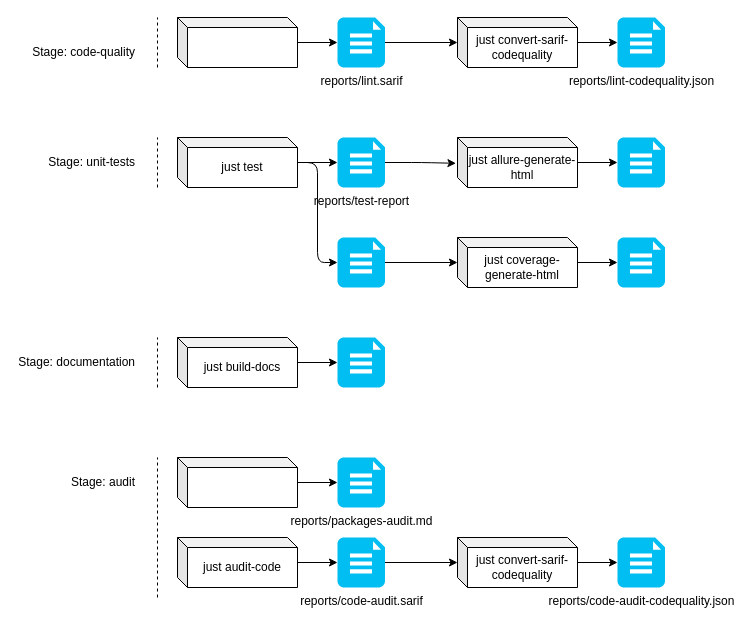
The diagram is 751 pixels wide and 626 high, and some of its shapes have lost their labels. The shapes that lost their labels are listed below. From the top down, each one's box as (x1, y1, x2, y2) in pixels, then its label:
(176, 16, 298, 68): just lint-sarif
(617, 137, 664, 187): documents/test-report
(337, 237, 384, 287): reports/coverage
(617, 237, 664, 287): documents/coverage-report/
(337, 337, 384, 387): documents/package-doc/
(176, 456, 298, 508): just audit-packages
